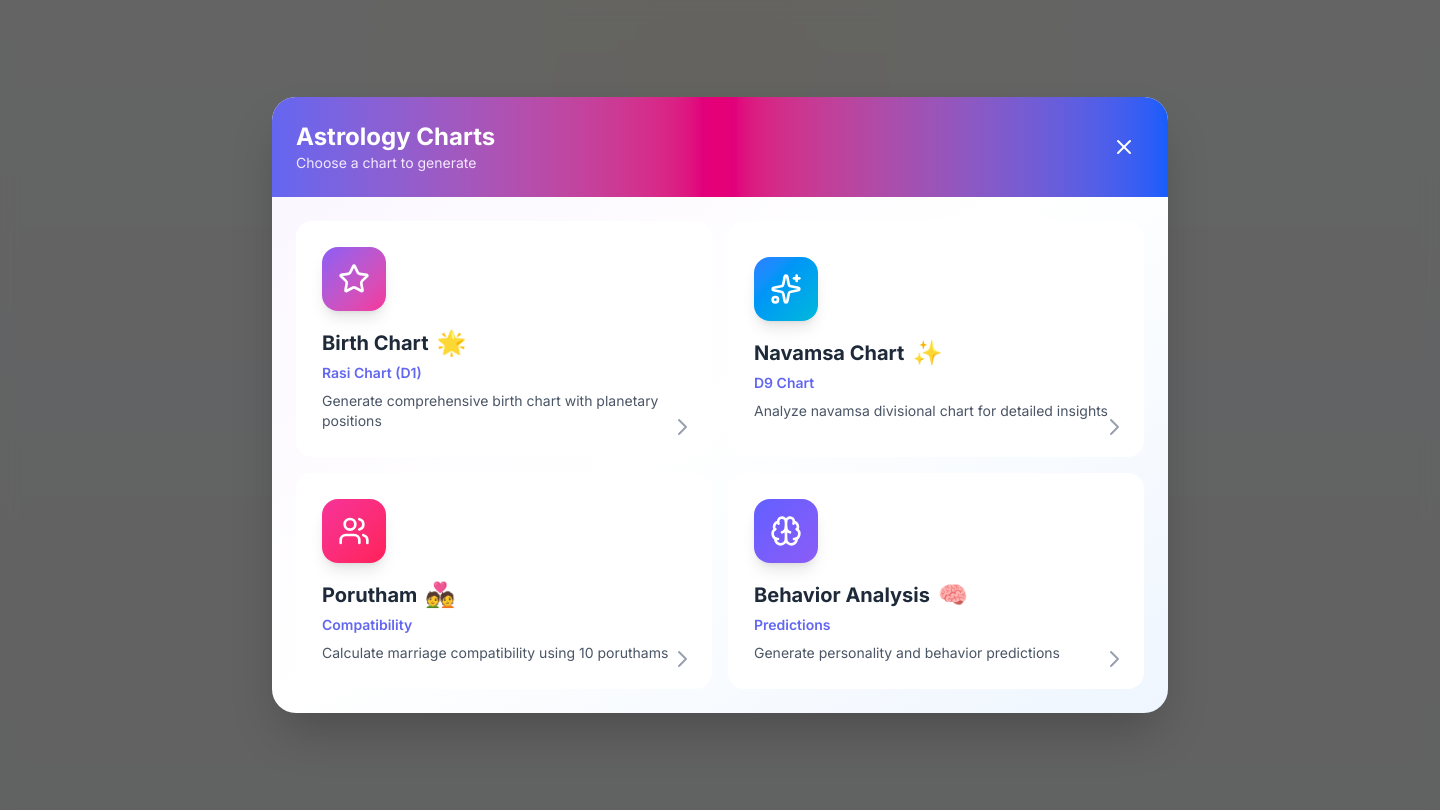
Test: ChartModal Component › should show Porutham form when Porutham option is clicked
What coordinates should you click on to do the following:
click the button "Porutham"
I would click on:
 (354, 531)
Its box is [296, 473, 712, 689].
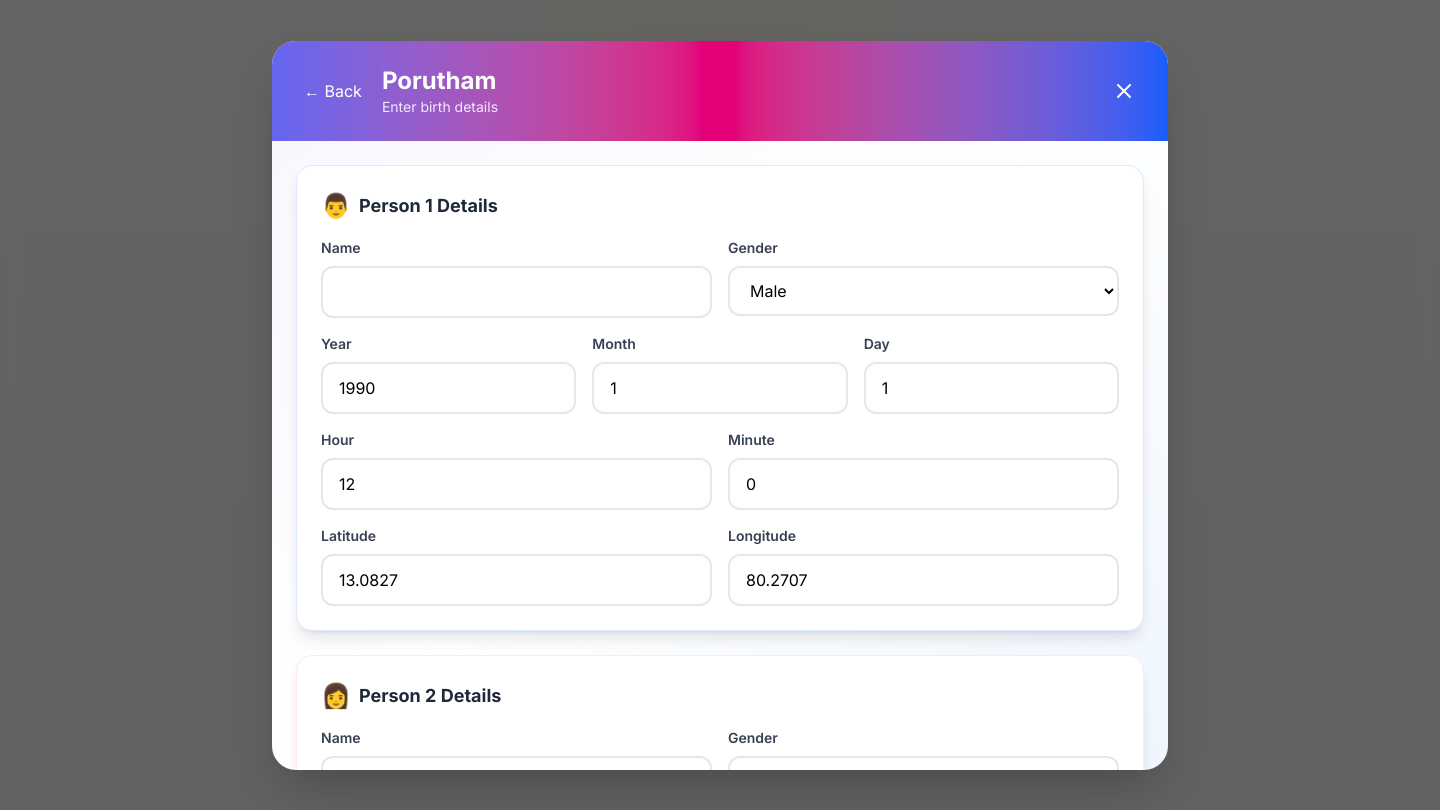
Expected: the heading "Porutham" is shown, [382, 64, 498, 96]
Expected: the text "Enter birth details" is shown, [382, 96, 498, 116]
